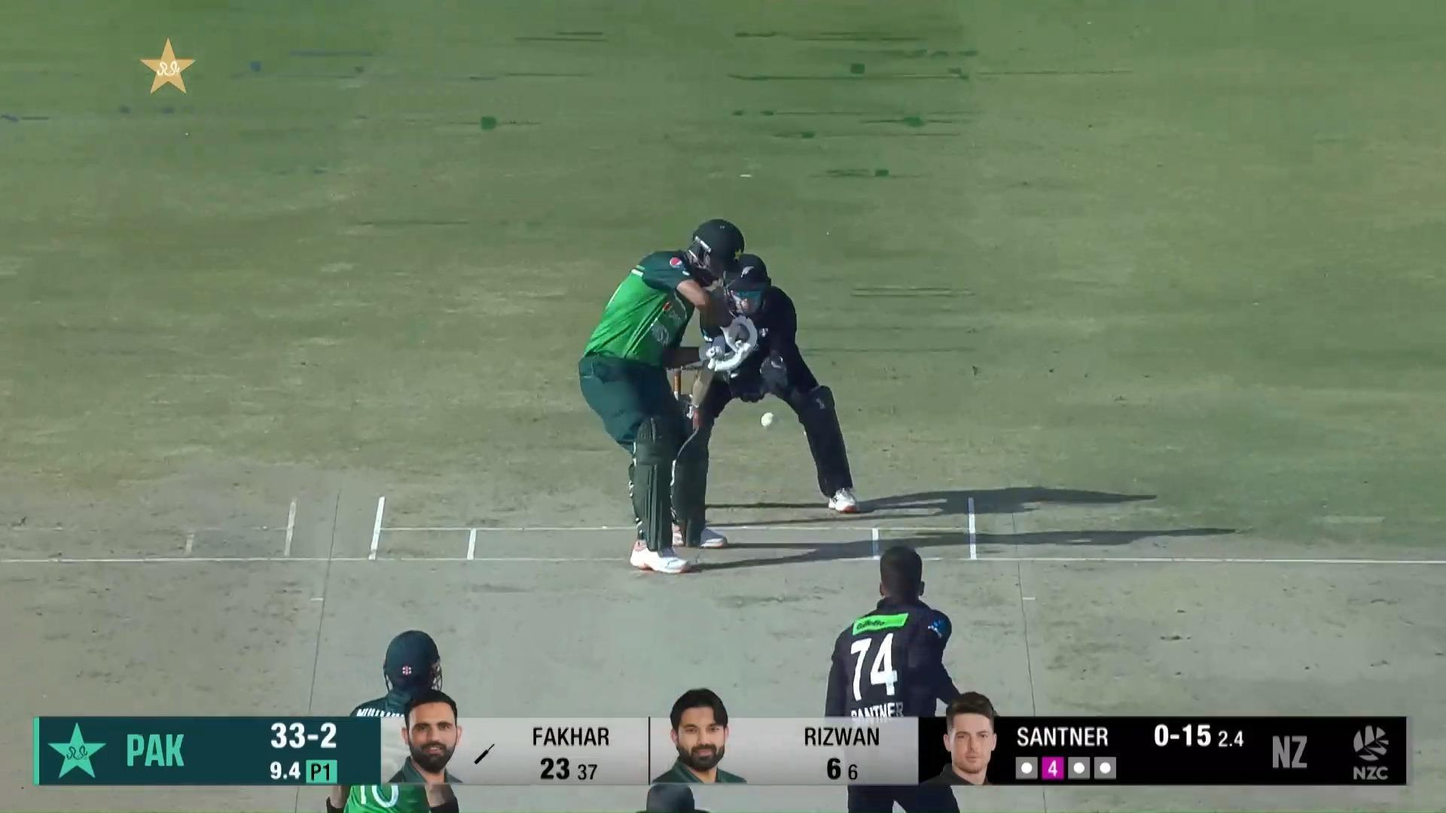BM 1: (579, 218, 758, 574)
BO: (824, 547, 963, 813)
